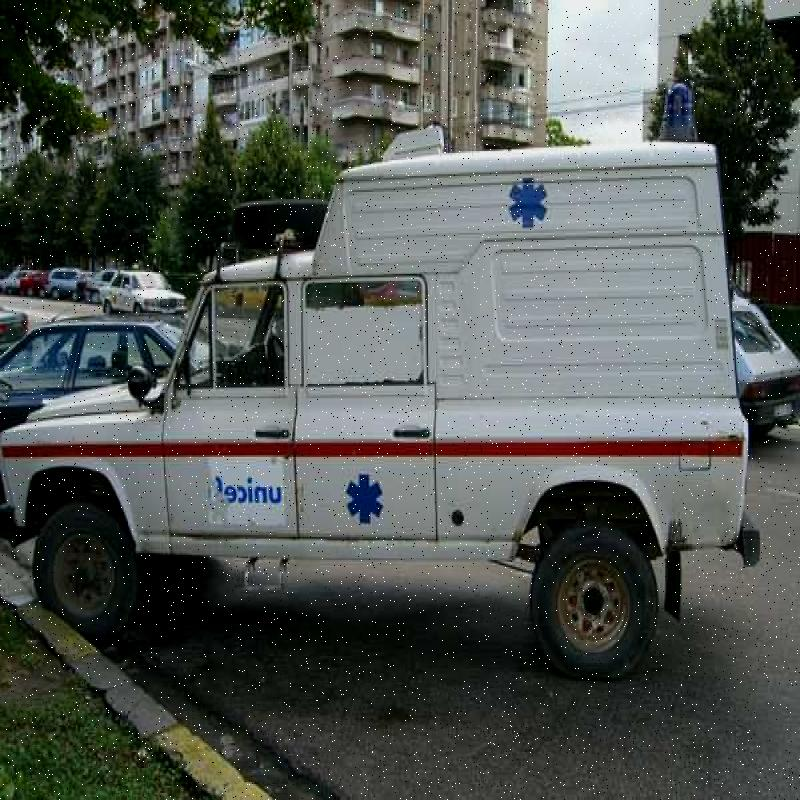AmbulanceSiren: (648, 82, 732, 150)
